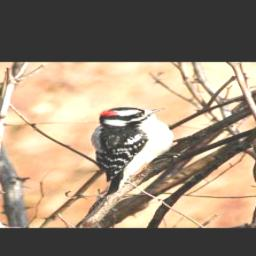Woodpecker: (92, 107, 180, 196)
